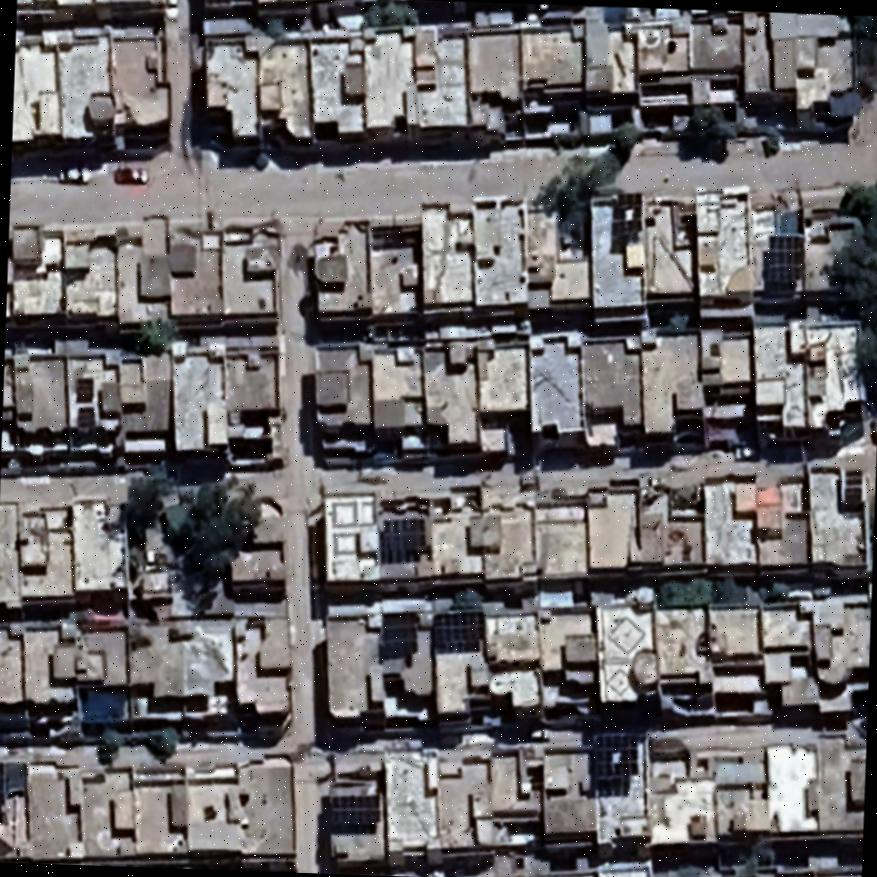Solarpanel: (582, 726, 641, 786), (756, 231, 808, 288), (425, 607, 485, 654), (371, 515, 430, 562), (318, 790, 386, 830), (371, 610, 420, 661), (0, 761, 7, 807)
